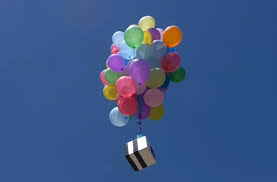Balloon: (128, 59, 152, 82), (125, 24, 143, 47), (162, 26, 182, 46), (115, 76, 136, 95), (117, 95, 138, 114), (109, 107, 129, 126), (144, 88, 163, 107), (160, 53, 180, 71), (108, 54, 125, 70), (111, 31, 124, 47), (103, 85, 116, 99)
